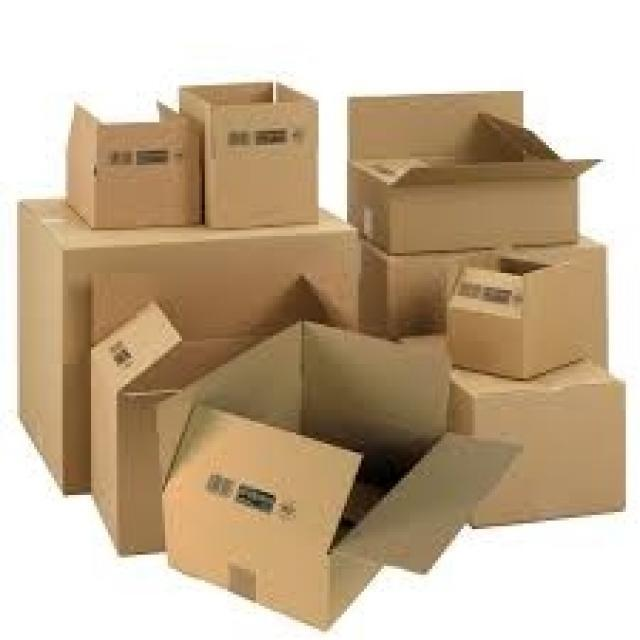cardboard paper: (17, 81, 623, 625), (163, 406, 520, 626), (447, 365, 623, 524)
